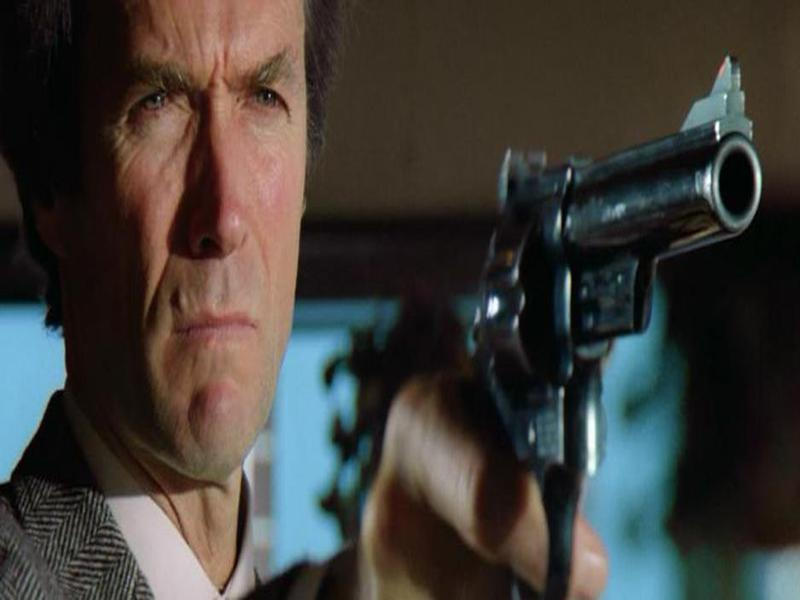Revolver: (460, 45, 771, 600)
